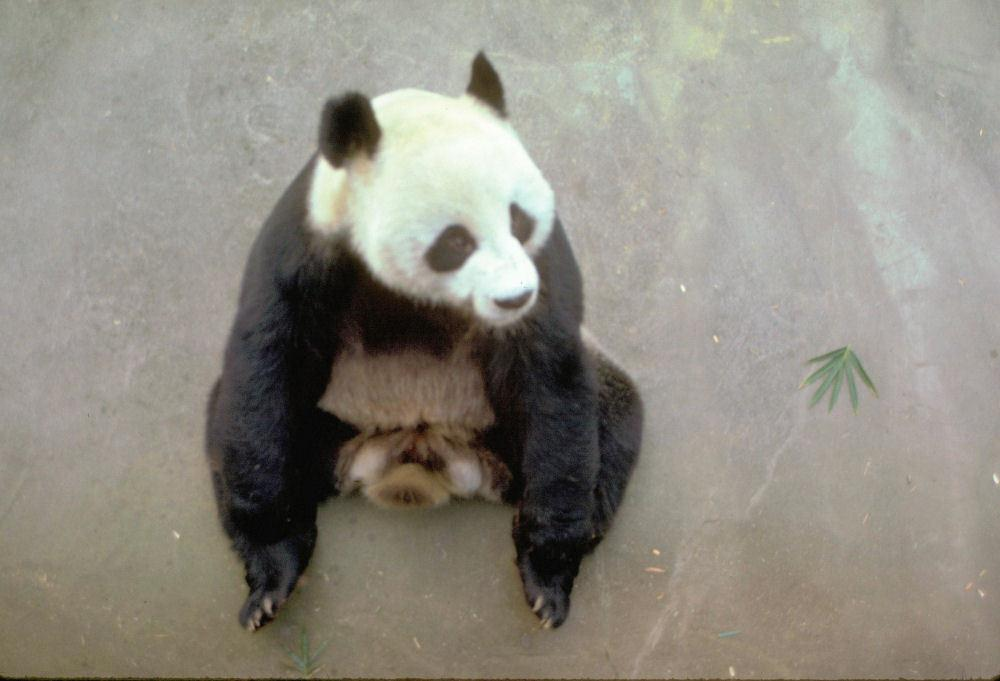panda: (205, 52, 642, 629)
